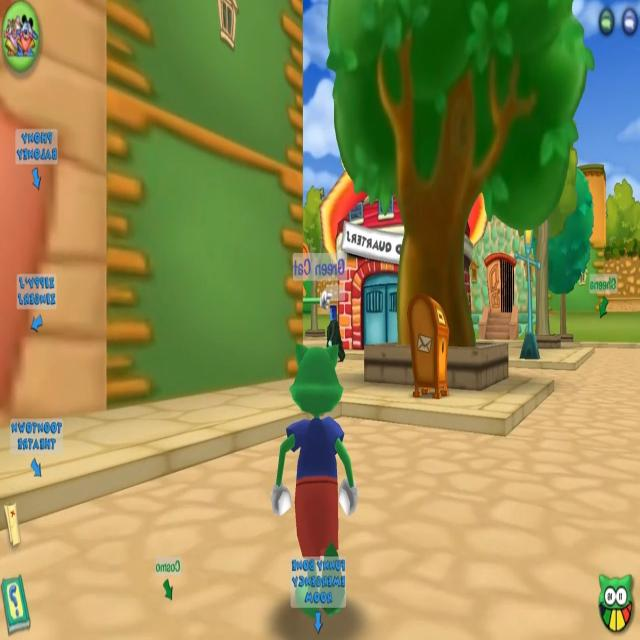shortchange: (316, 289, 347, 368)
